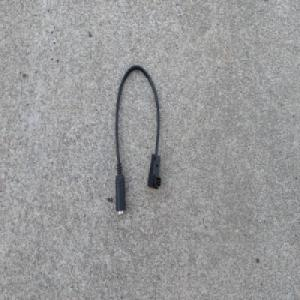Wire: (113, 63, 164, 215)
